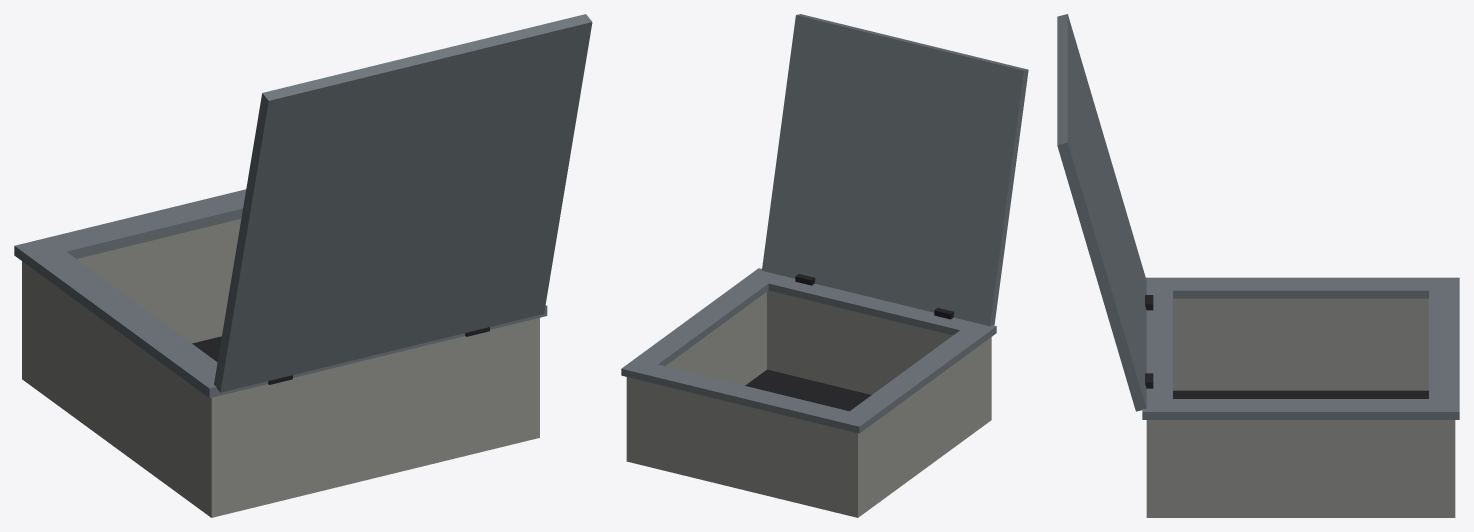
The model's file is roof_hatch.glb.
The picture shows the model from 3 angles, left to right: view 1: azimuth 30°, elevation 25°; view 2: azimuth 150°, elevation 25°; view 3: azimuth 270°, elevation 25°; orthographic projection. The views are drawn at different scales.
Visible parts, largest first — view 1: roof_hatch; view 2: roof_hatch; view 3: roof_hatch.
Boxes of the visible parts, <box> form: roof_hatch: <box>14,14,592,517</box>; roof_hatch: <box>621,14,1028,517</box>; roof_hatch: <box>1057,14,1459,517</box>.
Size of what is drawn, in the model's own units: 1.44 by 1.87 by 1.83.
Materials: 2 (2 with a texture image).
